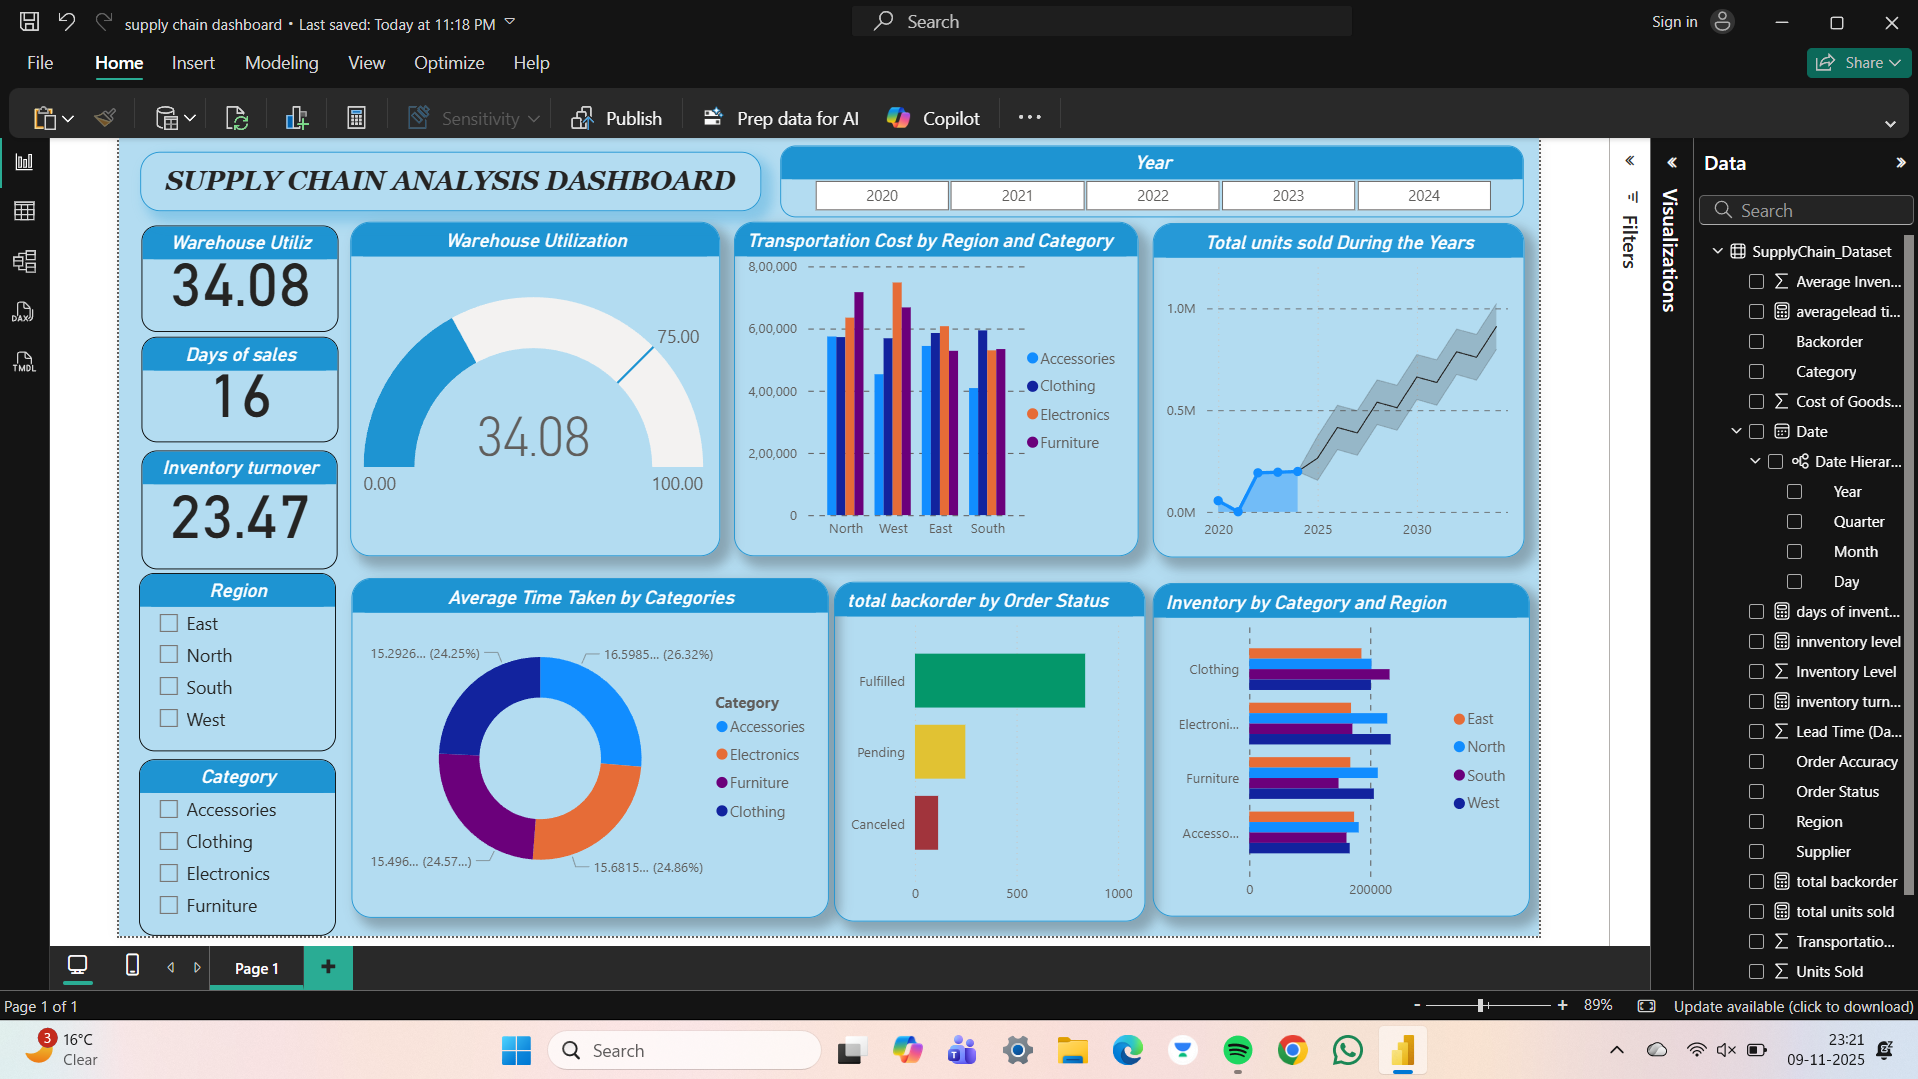

The page's visual inventory and layout, read from the dashboard file:
{"tool":"powerbi","page":{"name":"Page 1","canvas":[1280,720],"ordinal":0},"visuals":[{"type":"card","title":"Warehouse Utiliz","fields":{"Values":["SupplyChain_Dataset.Warehouse- Utiliz"]},"box":[19.9,78.4,177.9,95.8],"z":0},{"type":"card","title":"Inventory turnover","fields":{"Values":["SupplyChain_Dataset.inventory turnover ratio"]},"box":[20.1,282.1,176.6,107],"z":1000},{"type":"card","title":"Days of sales","fields":{"Values":["SupplyChain_Dataset.days of inventory sales"]},"box":[19.9,178.7,177.3,95.5],"z":2000},{"type":"slicer","title":"Region","fields":{"Values":["SupplyChain_Dataset.Region"]},"box":[18.2,392.4,177.3,160.6],"z":3000},{"type":"slicer","title":"Category","fields":{"Values":["SupplyChain_Dataset.Category"]},"box":[18.2,560.6,177.3,159.1],"z":4000},{"type":"gauge","title":"Warehouse Utilization","fields":{"Y":["SupplyChain_Dataset.Warehouse- Utiliz"]},"box":[209,75.6,333.3,301.5],"z":5000},{"type":"clusteredColumnChart","title":"Transportation Cost by Region and Category","fields":{"Y":["Sum(SupplyChain_Dataset.Transportation Cost)"],"Category":["SupplyChain_Dataset.Region"],"Series":["SupplyChain_Dataset.Category"]},"box":[554.4,75.6,365.2,301.5],"z":6000},{"type":"lineChart","title":"Total units sold During the Years","fields":{"Category":["SupplyChain_Dataset.Date.Variation.Date Hierarchy.Year"],"Y":["SupplyChain_Dataset.total units sold"]},"box":[931.7,77.2,334.8,301.5],"z":7000},{"type":"donutChart","title":"Average Time Taken by Categories","fields":{"Category":["SupplyChain_Dataset.Category"],"Y":["SupplyChain_Dataset.averagelead time"]},"box":[209.1,397,430.3,306.1],"z":8000},{"type":"clusteredBarChart","fields":{"Y":["SupplyChain_Dataset.total backorder"],"Category":["SupplyChain_Dataset.Order Status"]},"box":[644.4,400.6,281.1,306],"z":9000},{"type":"clusteredBarChart","title":"Inventory by Category and Region","fields":{"Category":["SupplyChain_Dataset.Category"],"Series":["SupplyChain_Dataset.Region"],"Y":["SupplyChain_Dataset.innventory level"]},"box":[931.7,401.8,339.6,301],"z":10000},{"type":"textbox","box":[18.7,12.4,559.8,53.5],"z":11000},{"type":"slicer","title":"Year","fields":{"Values":["SupplyChain_Dataset.Date.Variation.Date Hierarchy.Year"]},"box":[595.9,6.2,670.5,64.7],"z":12000}]}

Visuals, with their boxes on the page's 1280x720 design canvas (x1, y1, x2, y2). These are canvas units, not pixel positions in the 1918x1079 screenshot, which may show the page scaled, cropped or inside an application window:
"Warehouse Utiliz" card: 20,78,198,174
"Inventory turnover" card: 20,282,197,389
"Days of sales" card: 20,179,197,274
"Region" slicer: 18,392,196,553
"Category" slicer: 18,561,196,720
"Warehouse Utilization" gauge: 209,76,542,377
"Transportation Cost by Region and Category" clusteredColumnChart: 554,76,920,377
"Total units sold During the Years" lineChart: 932,77,1266,379
"Average Time Taken by Categories" donutChart: 209,397,639,703
clusteredBarChart - SupplyChain_Dataset.total backorder x SupplyChain_Dataset.Order Status: 644,401,926,707
"Inventory by Category and Region" clusteredBarChart: 932,402,1271,703
textbox: 19,12,578,66
"Year" slicer: 596,6,1266,71
